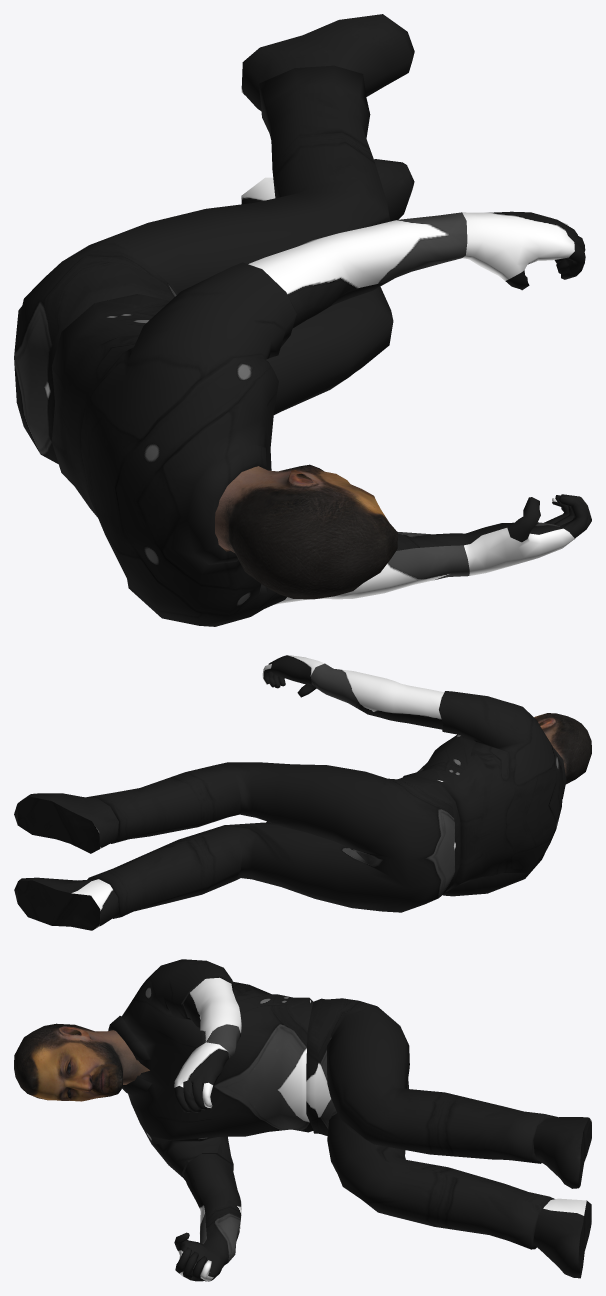
The model's file is Caucasian_Male.obj.
3 views of the same model, one above another, from view 1: azimuth 30°, elevation 25°; view 2: azimuth 150°, elevation 25°; view 3: azimuth 270°, elevation 25° (orthographic). The views are drawn at different scales.
Visible parts, largest first — view 1: driver001; view 2: driver001; view 3: driver001.
Boxes of the visible parts, x1=… form: driver001: x1=14, y1=14, x2=591, y2=626; driver001: x1=14, y1=655, x2=591, y2=930; driver001: x1=14, y1=959, x2=591, y2=1281.
Size of the model in its own units: 1.04 by 0.5876 by 1.35.
